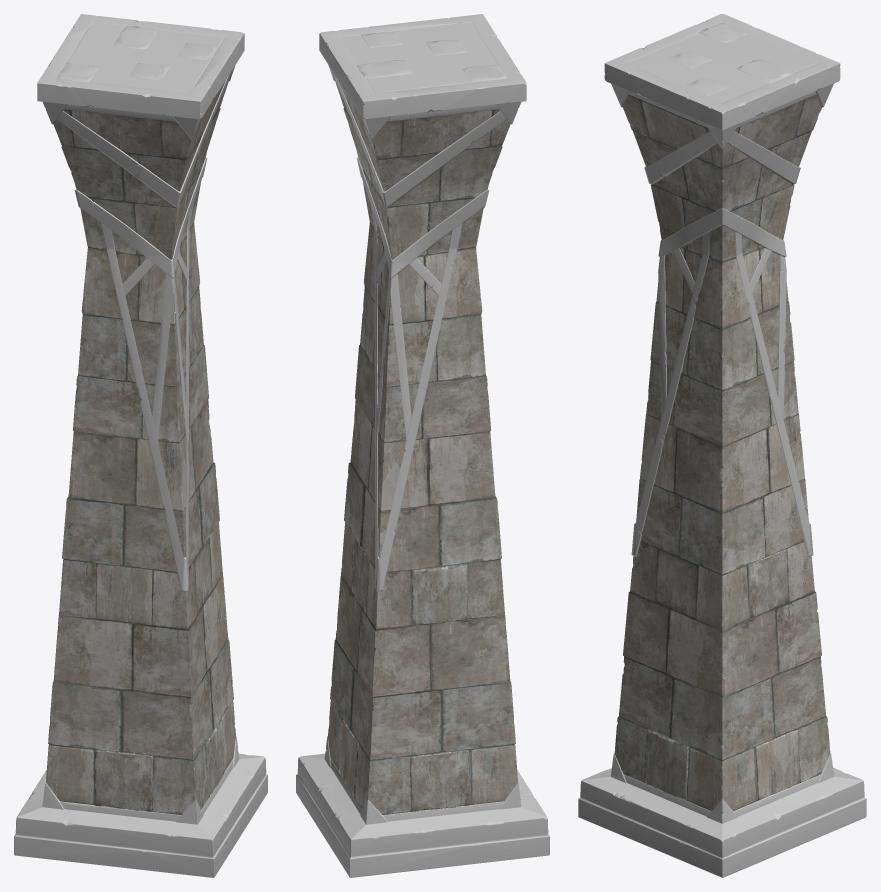
The picture shows the model from 3 angles, left to right: view 1: azimuth 30°, elevation 25°; view 2: azimuth 150°, elevation 25°; view 3: azimuth 270°, elevation 25°; orthographic projection.
Visible parts, largest first — view 1: SM_DK_Pyramid_Column_01_LOD0; view 2: SM_DK_Pyramid_Column_01_LOD0; view 3: SM_DK_Pyramid_Column_01_LOD0.
Part boxes in pixels (x1=…): SM_DK_Pyramid_Column_01_LOD0: x1=14, y1=14, x2=267, y2=877; SM_DK_Pyramid_Column_01_LOD0: x1=296, y1=14, x2=549, y2=877; SM_DK_Pyramid_Column_01_LOD0: x1=578, y1=14, x2=866, y2=877.
Size of the model in its own units: 10.59 by 30.63 by 10.59.
